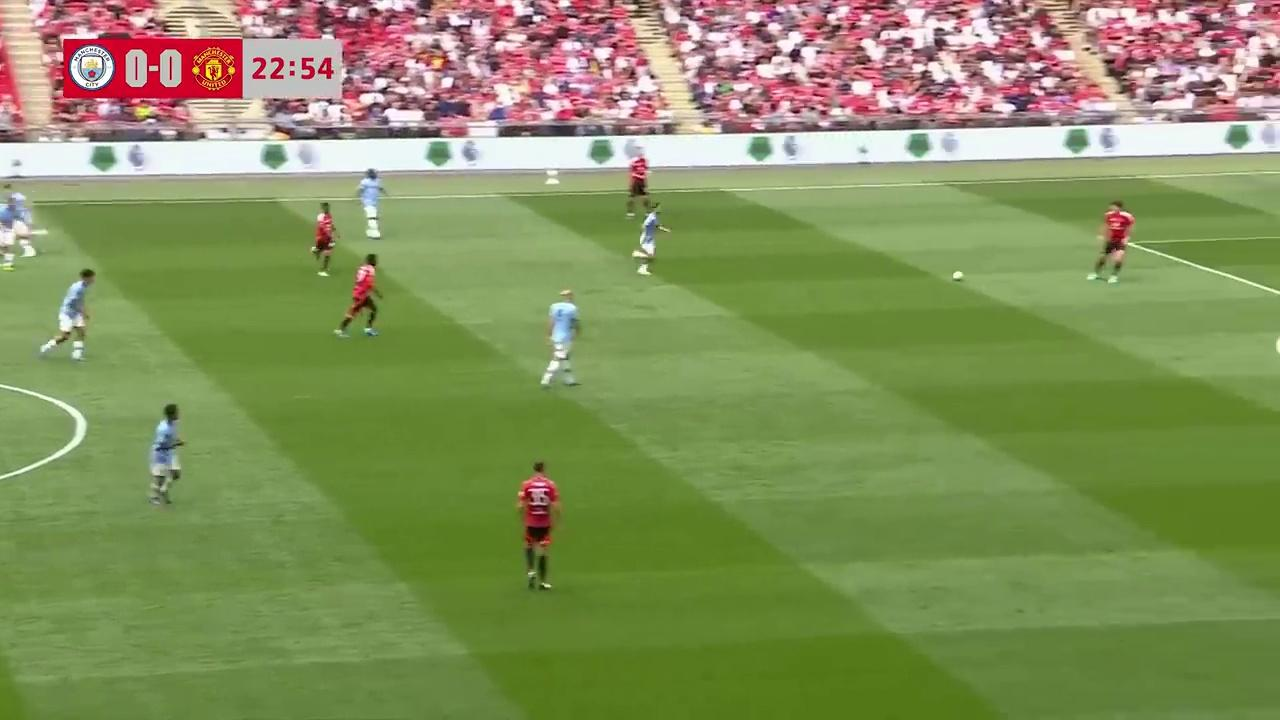ball: (952, 269, 967, 284)
player: (516, 460, 562, 592), (39, 270, 94, 362), (333, 254, 384, 338), (540, 287, 580, 388), (1087, 200, 1134, 284), (1087, 200, 1134, 283), (148, 403, 184, 506), (0, 187, 40, 263), (631, 204, 670, 275), (309, 203, 340, 277), (355, 168, 385, 239), (625, 154, 651, 217)
